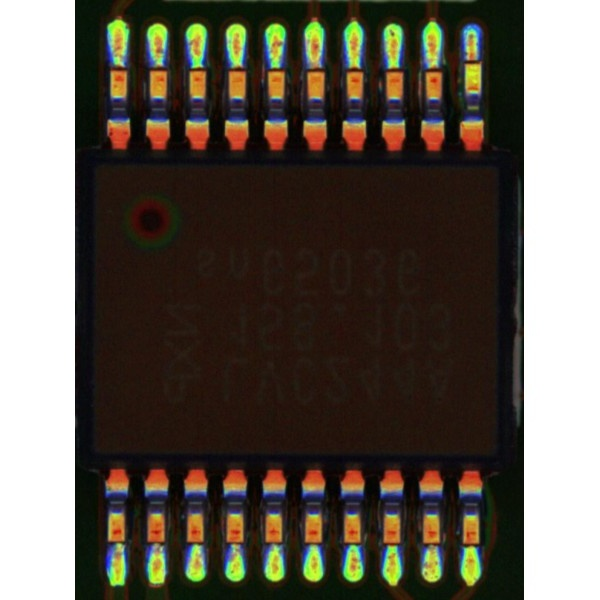Bad_podu: (468, 49, 477, 75)
